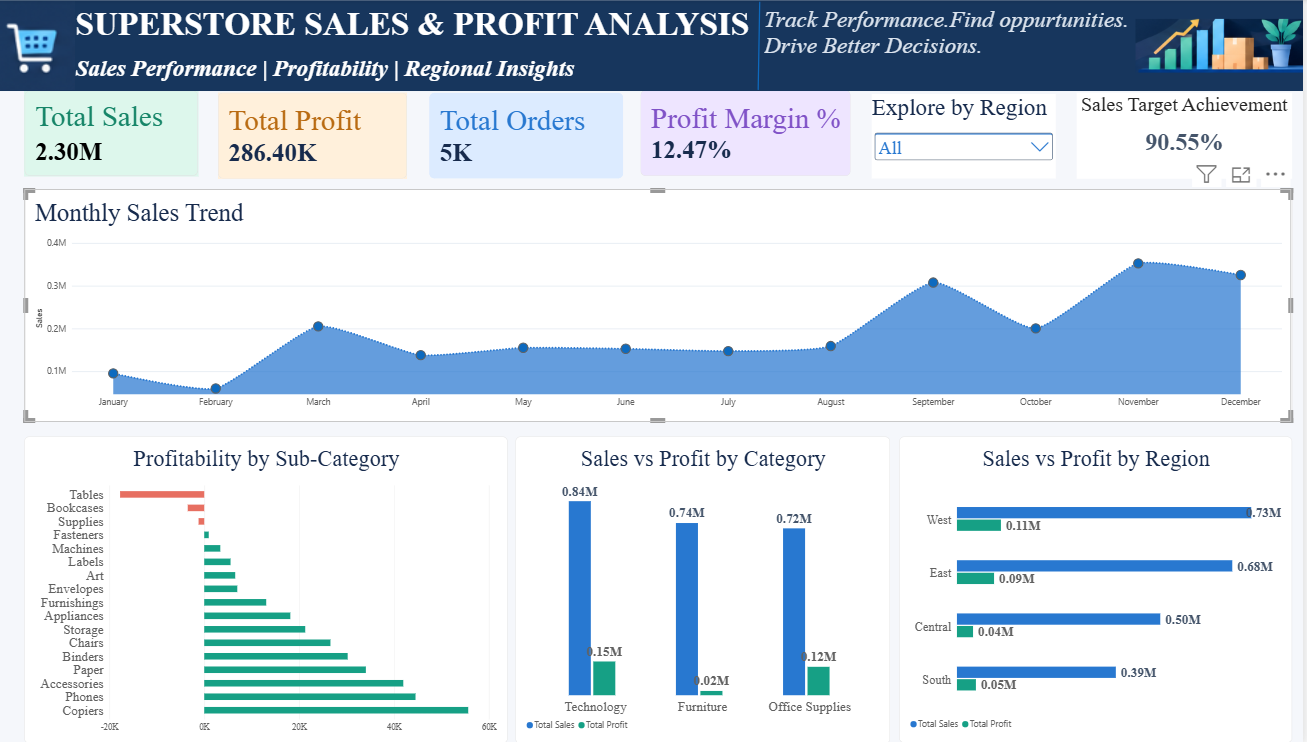

This screenshot's page, from the dashboard's own definition file:
{"tool":"powerbi","page":{"name":"Page 1","canvas":[2100,1200],"ordinal":0},"visuals":[{"type":"cardVisual","fields":{"Data":["Sample - Superstore.Total Sales"]},"box":[42,146,280,138],"z":0},{"type":"cardVisual","fields":{"Data":["Sample - Superstore.Total Orders"]},"box":[694,150,312,138],"z":1000},{"type":"cardVisual","fields":{"Data":["Sample - Superstore.Profit Margin %"]},"box":[1034,146,338,138],"z":2000},{"type":"cardVisual","fields":{"Data":["Sample - Superstore.Total Profit"]},"box":[354,150,304,138],"z":3000},{"type":"stackedAreaChart","title":"Monthly Sales Trend","fields":{"Category":["Sample - Superstore.Arranged Order Date.Variation.Date Hierarchy.Month"],"Y":["Sample - Superstore.Total Sales"]},"box":[42,306,2040,374],"z":4000},{"type":"clusteredColumnChart","title":"Sales vs Profit by Category","fields":{"Category":["Sample - Superstore.Category"],"Y":["Sample - Superstore.Total Sales","Sample - Superstore.Total Profit"]},"box":[832,704,602.7,496],"z":5000},{"type":"clusteredBarChart","title":"Sales vs Profit by Region","fields":{"Category":["Sample - Superstore.Region"],"Y":["Sample - Superstore.Total Sales","Sample - Superstore.Total Profit"]},"box":[1450,704,632,494],"z":6000},{"type":"clusteredBarChart","title":"Profitability by Sub-Category","fields":{"Category":["Sample - Superstore.Sub-Category"],"Y":["Sample - Superstore.Total Profit"]},"box":[42.2,704,777.8,495.4],"z":7000},{"type":"slicer","title":"Explore by Region","fields":{"Values":["Sample - Superstore.Region"]},"box":[1406,152,296,136],"z":8000},{"type":"shape","box":[0,2,2100,146],"z":9000},{"type":"textbox","box":[124,10,1108,136],"z":10000},{"type":"image","box":[0,0,124,150],"z":11000},{"type":"textbox","box":[1232,10,612,126],"z":12000},{"type":"shape","box":[1134,4,180,142],"z":13000},{"type":"image","box":[1830,0,270,150],"z":14000},{"type":"kpi","title":"Sales Target Achievement ","fields":{"Indicator":["Sample - Superstore.Target Achievement %"],"TrendLine":["Sample - Superstore.Sales"]},"box":[1736,150,346,138],"z":15000}]}

Visuals, with their boxes in screenshot pixels (x1, y1, x2, y2), scaled from the page's 2100x1200 canvas onto the 1307x742 screenshot:
cardVisual - Sample - Superstore.Total Sales: bbox=(26, 90, 200, 176)
cardVisual - Sample - Superstore.Total Orders: bbox=(432, 93, 626, 178)
cardVisual - Sample - Superstore.Profit Margin %: bbox=(644, 90, 854, 176)
cardVisual - Sample - Superstore.Total Profit: bbox=(220, 93, 410, 178)
"Monthly Sales Trend" stackedAreaChart: bbox=(26, 189, 1296, 420)
"Sales vs Profit by Category" clusteredColumnChart: bbox=(518, 435, 893, 741)
"Sales vs Profit by Region" clusteredBarChart: bbox=(902, 435, 1296, 741)
"Profitability by Sub-Category" clusteredBarChart: bbox=(26, 435, 510, 741)
"Explore by Region" slicer: bbox=(875, 94, 1059, 178)
shape: bbox=(0, 1, 1306, 92)
textbox: bbox=(77, 6, 767, 90)
image: bbox=(0, 0, 77, 93)
textbox: bbox=(767, 6, 1148, 84)
shape: bbox=(706, 2, 818, 90)
image: bbox=(1139, 0, 1306, 93)
"Sales Target Achievement " kpi: bbox=(1080, 93, 1296, 178)
